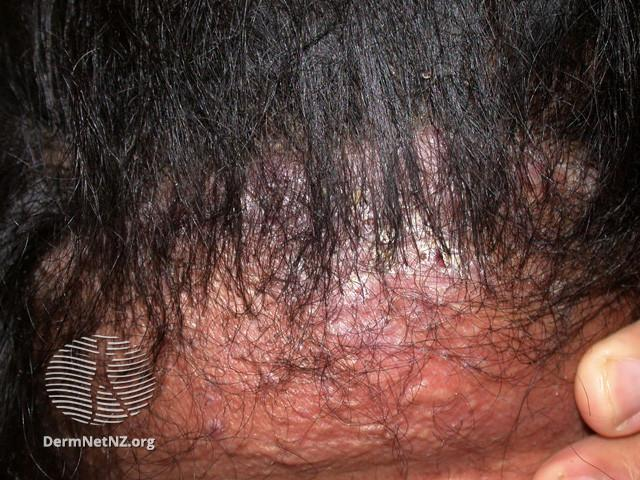Folliculitis: (131, 157, 606, 463)
